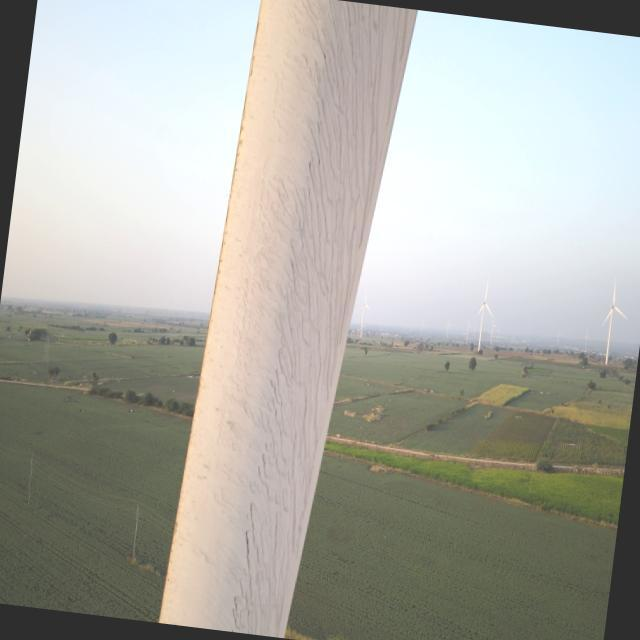Dirt: (215, 0, 415, 638)
